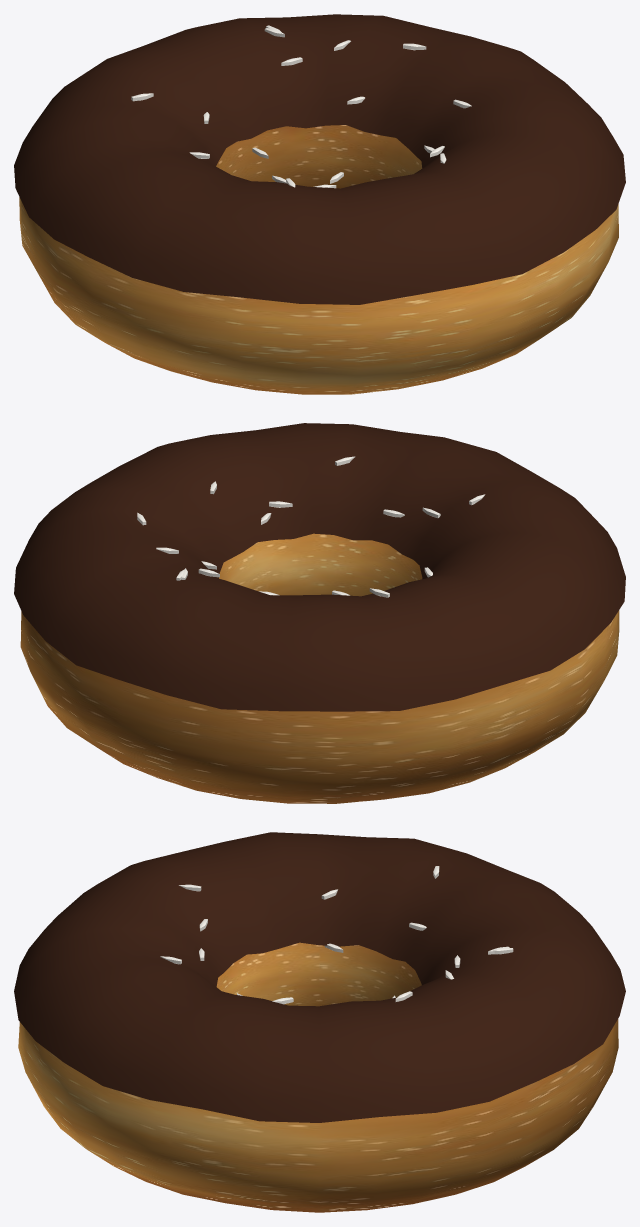
The model's file is bakery_donut_chocolate.glb.
The picture shows the model from 3 angles, top to bottom: view 1: azimuth 30°, elevation 25°; view 2: azimuth 150°, elevation 25°; view 3: azimuth 270°, elevation 25°; orthographic projection.
Visible parts, largest first — view 1: bakery_donut_chocolate; view 2: bakery_donut_chocolate; view 3: bakery_donut_chocolate.
Boxes of the visible parts, bbox=[...] form: bakery_donut_chocolate: bbox=[14, 14, 625, 394]; bakery_donut_chocolate: bbox=[14, 423, 625, 803]; bakery_donut_chocolate: bbox=[14, 832, 625, 1212].
Bounding box in the file's own units: 0.1024 × 0.0356 × 0.1024.
3 materials, 1 textured.
